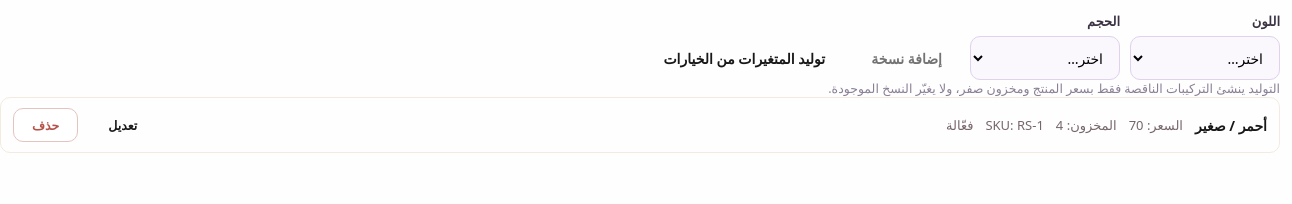
it: admin variant editing › leaves the original values in place when the edit is cancelled
Click the button with aria-label "تعديل أحمر / صغير": (123, 125) top-left (90, 108), bottom-right (155, 142)
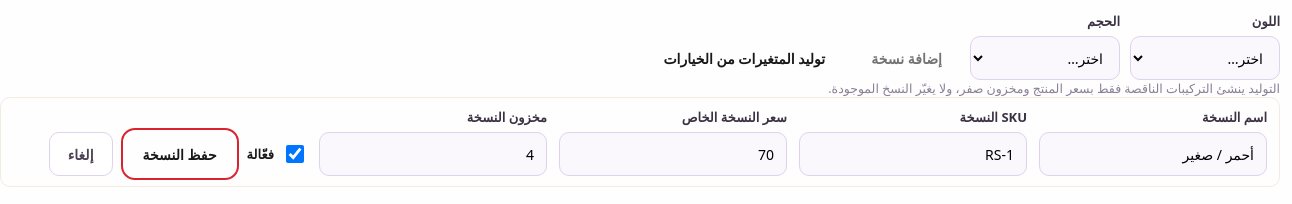
Replace the text in the field labelled "SKU النسخة" with "THROWAWAY": (913, 154) top-left (799, 132), bottom-right (1027, 176)
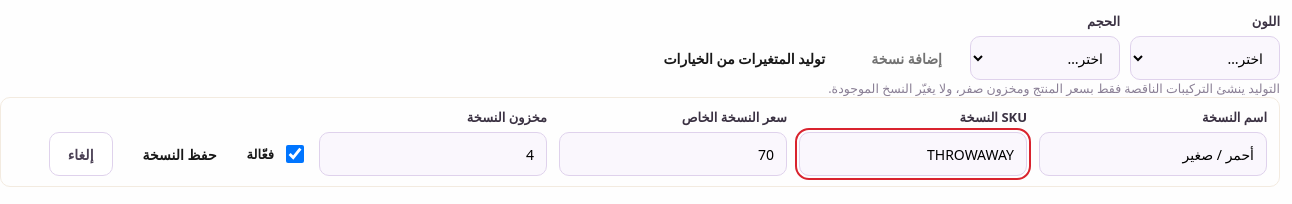
Click the button "إلغاء": (81, 154) top-left (49, 132), bottom-right (113, 176)
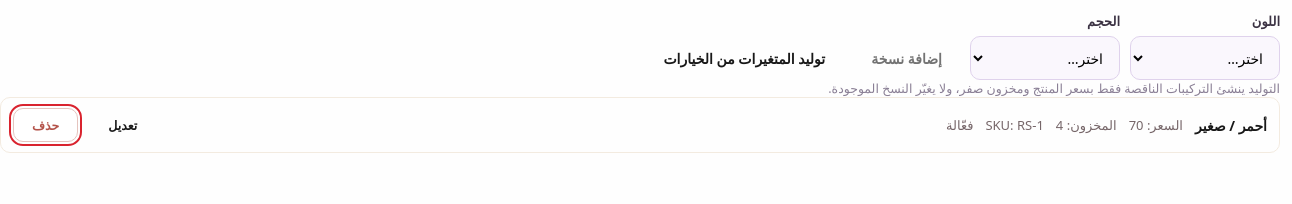
Expected: the text "THROWAWAY" is not shown
Expected: the text "أحمر / صغير" is shown, top-left (1195, 116), bottom-right (1267, 134)
Expected: the text "SKU: RS-1" is shown, top-left (985, 116), bottom-right (1044, 134)
